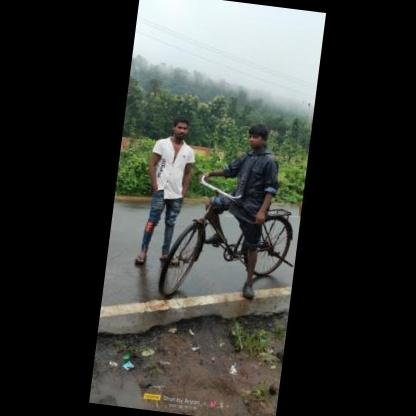Bicycle: (157, 179, 302, 319)
